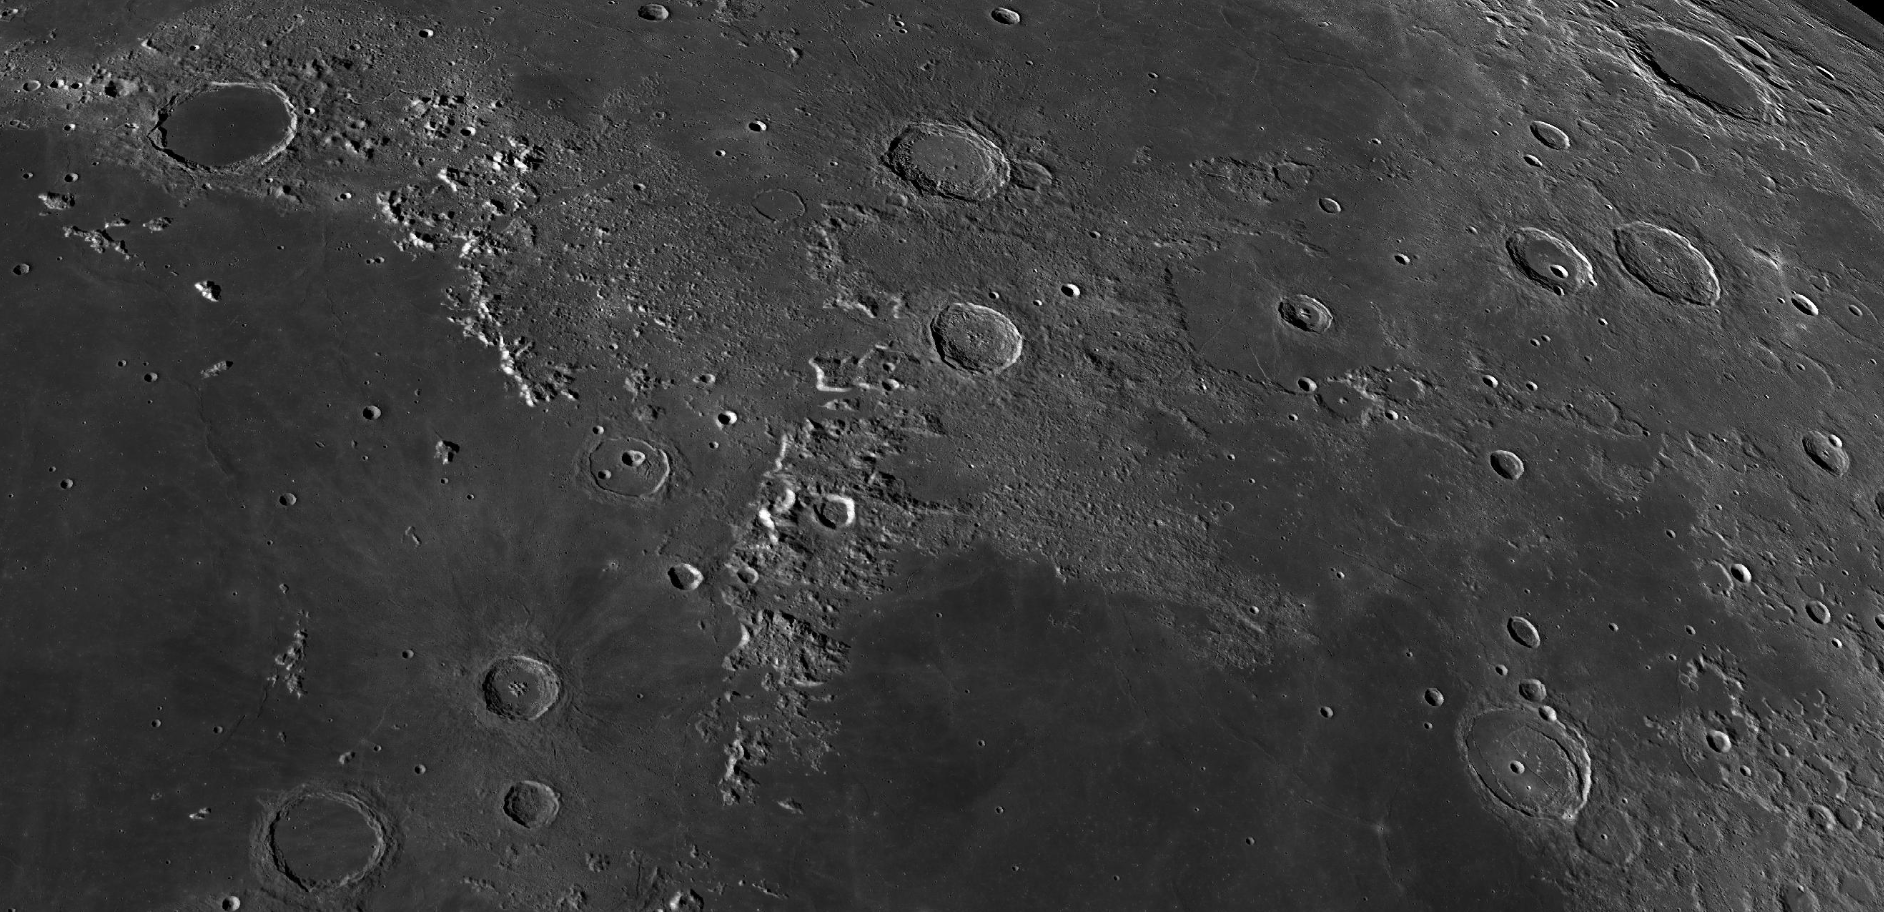crater: (837, 76, 1113, 250), (99, 30, 354, 215), (1598, 7, 1840, 163), (180, 751, 415, 910), (1597, 187, 1765, 369), (874, 272, 1054, 440), (436, 616, 606, 761), (1457, 183, 1603, 335), (561, 409, 721, 511), (1472, 424, 1561, 509), (1791, 417, 1876, 502), (1465, 591, 1564, 658), (1791, 582, 1840, 628), (1302, 184, 1354, 225)
